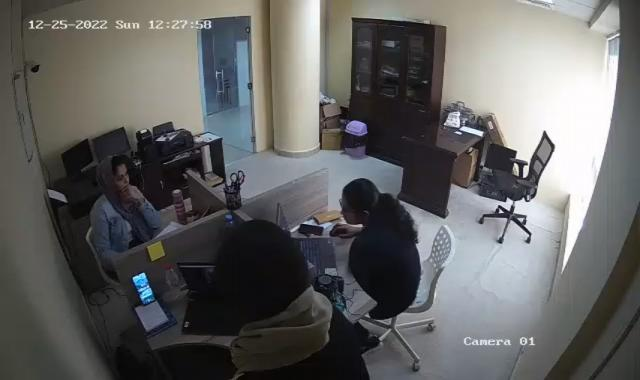no_hairnet: (212, 215, 314, 319), (333, 177, 389, 229), (104, 152, 130, 190)
